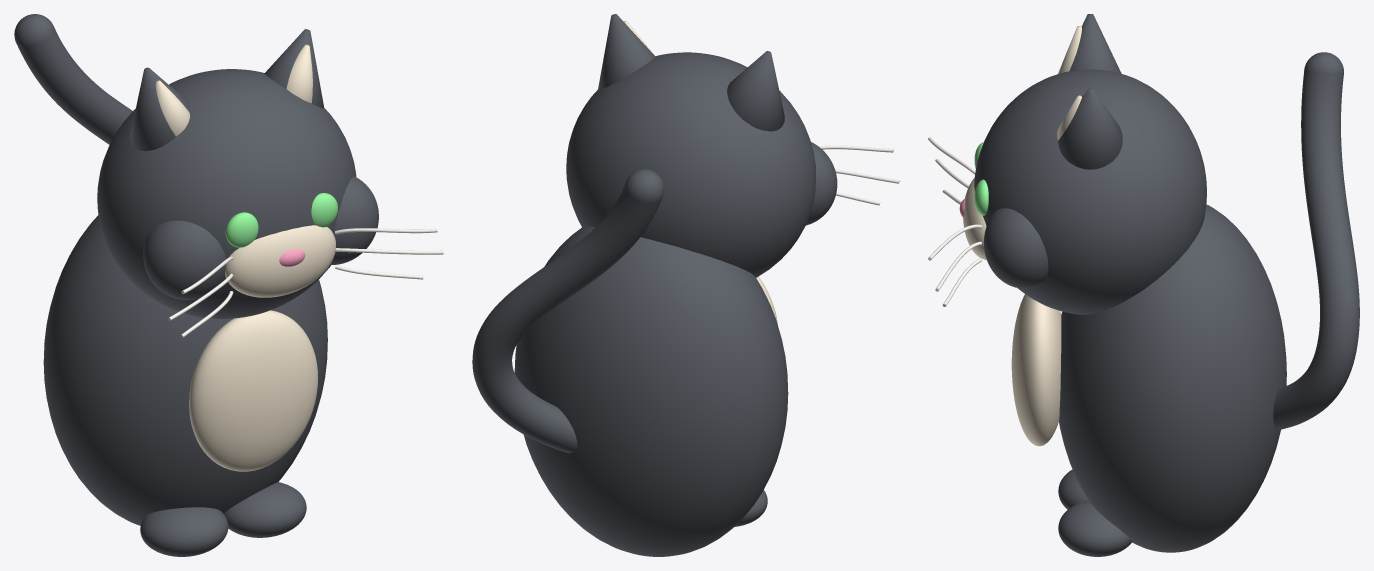
The model's file is cat.glb.
The picture shows the model from 3 angles, left to right: view 1: azimuth 30°, elevation 25°; view 2: azimuth 150°, elevation 25°; view 3: azimuth 270°, elevation 25°; orthographic projection. The views are drawn at different scales.
Visible parts, largest first — view 1: Cat_Body, Cat_Head, Cat_Chest, Cat_Muzzle, Cat_Tail, Cat_Cheek_L, Cat_Paw_L, Cat_Paw_R, Cat_Cheek_R, Cat_Ear_L, Cat_Ear_R, Cat_InnerEar_R (+4 smaller); view 2: Cat_Body, Cat_Head, Cat_Tail, Cat_Ear_L, Cat_Ear_R, Cat_Cheek_L, Cat_Tail_Tip; view 3: Cat_Body, Cat_Head, Cat_Tail, Cat_Chest, Cat_Cheek_R, Cat_Ear_R, Cat_Paw_R, Cat_Ear_L, Cat_Muzzle, Cat_Tail_Tip, Cat_Paw_L.
Part boxes in pixels (bbox=[...]): Cat_Body: bbox=[43, 215, 327, 525]; Cat_Head: bbox=[97, 69, 356, 318]; Cat_Chest: bbox=[189, 310, 317, 471]; Cat_Muzzle: bbox=[225, 225, 336, 297]; Cat_Tail: bbox=[17, 27, 132, 144]; Cat_Cheek_L: bbox=[143, 220, 225, 300]; Cat_Paw_L: bbox=[140, 507, 228, 556]; Cat_Paw_R: bbox=[224, 482, 306, 537]; Cat_Cheek_R: bbox=[330, 176, 378, 265]; Cat_Ear_L: bbox=[130, 67, 189, 151]; Cat_Ear_R: bbox=[264, 29, 324, 108]; Cat_InnerEar_R: bbox=[286, 44, 312, 103]; Cat_Body: bbox=[514, 226, 788, 556]; Cat_Head: bbox=[566, 52, 815, 277]; Cat_Tail: bbox=[472, 183, 662, 453]; Cat_Ear_L: bbox=[727, 51, 784, 131]; Cat_Ear_R: bbox=[598, 14, 655, 90]; Cat_Cheek_L: bbox=[805, 142, 837, 225]; Cat_Tail_Tip: bbox=[625, 169, 664, 203]; Cat_Body: bbox=[1059, 204, 1286, 552]; Cat_Head: bbox=[974, 69, 1206, 314]; Cat_Tail: bbox=[1273, 70, 1359, 430]; Cat_Chest: bbox=[1011, 294, 1061, 446]; Cat_Cheek_R: bbox=[984, 208, 1048, 288]; Cat_Ear_R: bbox=[1058, 88, 1122, 169]; Cat_Paw_R: bbox=[1058, 500, 1132, 556]; Cat_Ear_L: bbox=[1069, 14, 1121, 73]; Cat_Muzzle: bbox=[963, 178, 986, 260]; Cat_Tail_Tip: bbox=[1304, 52, 1343, 76]; Cat_Paw_L: bbox=[1058, 469, 1088, 509].
Size of the model in its own units: 0.0843 by 0.1483 by 0.1183.
